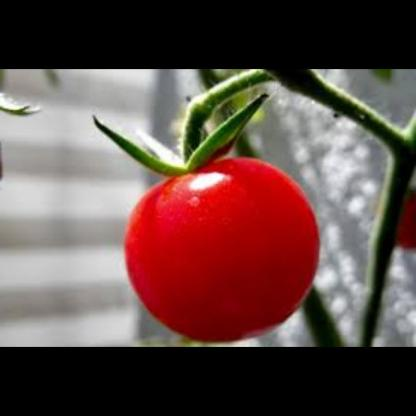tomato: (113, 142, 326, 347)
